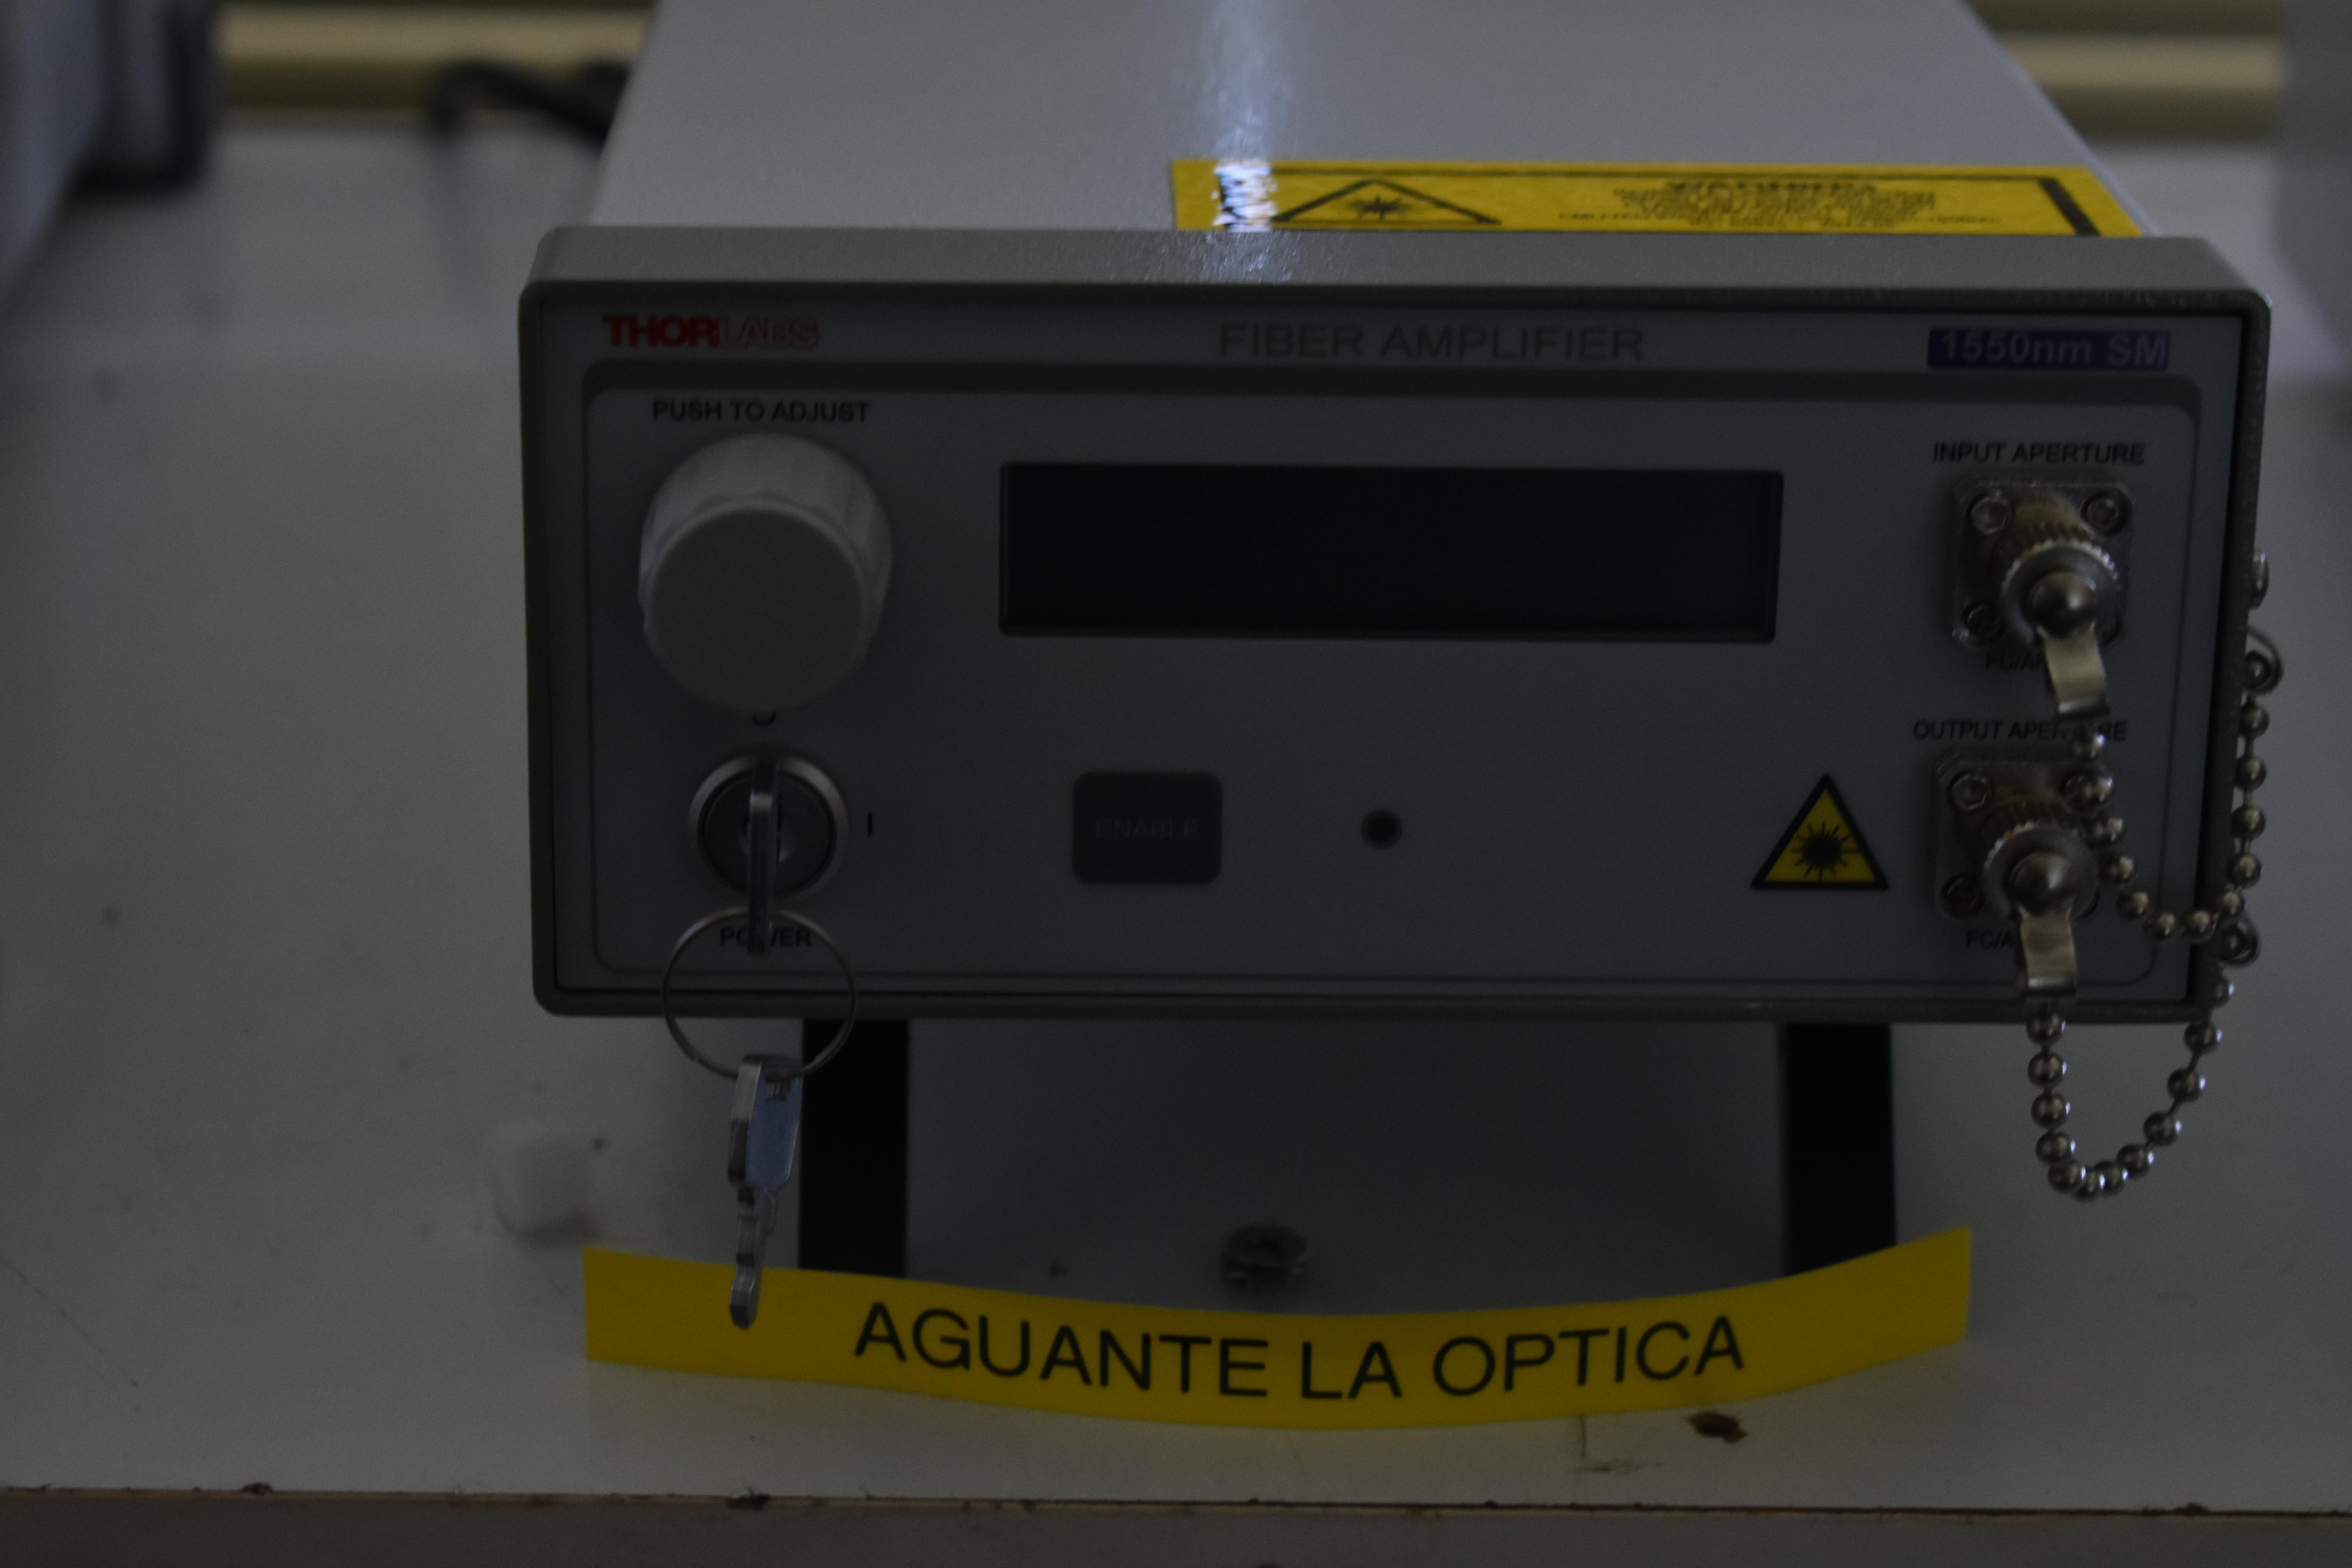laser: (519, 0, 2289, 1343)
